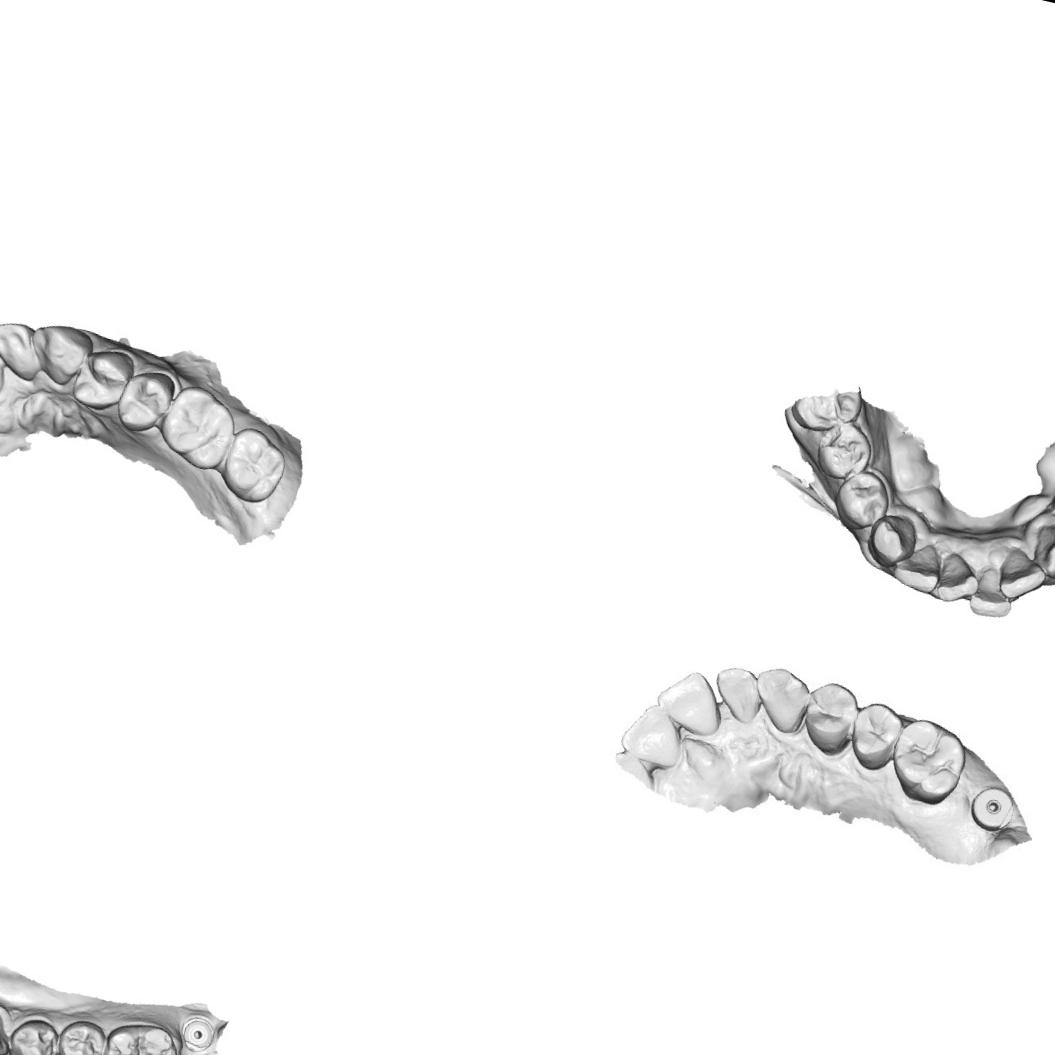canine: (20, 316, 95, 391), (748, 664, 816, 737), (861, 507, 920, 571), (1021, 520, 1055, 585), (0, 1006, 17, 1055)
implant: (962, 782, 1022, 840), (176, 1011, 218, 1055)
incisor: (614, 700, 696, 773), (650, 662, 730, 735), (702, 662, 770, 730), (886, 534, 950, 598), (0, 311, 50, 385), (964, 560, 1020, 626), (992, 545, 1050, 608), (928, 547, 986, 610)
molar: (152, 377, 244, 475), (886, 713, 970, 810), (216, 412, 297, 509), (96, 1014, 187, 1055)
premolar: (66, 340, 139, 420), (109, 364, 179, 442), (810, 415, 878, 486), (829, 462, 894, 534), (845, 700, 906, 774), (800, 681, 858, 754), (3, 1012, 64, 1055), (52, 1014, 109, 1055)
